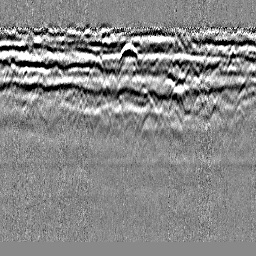cavity: (118, 43, 138, 63)
